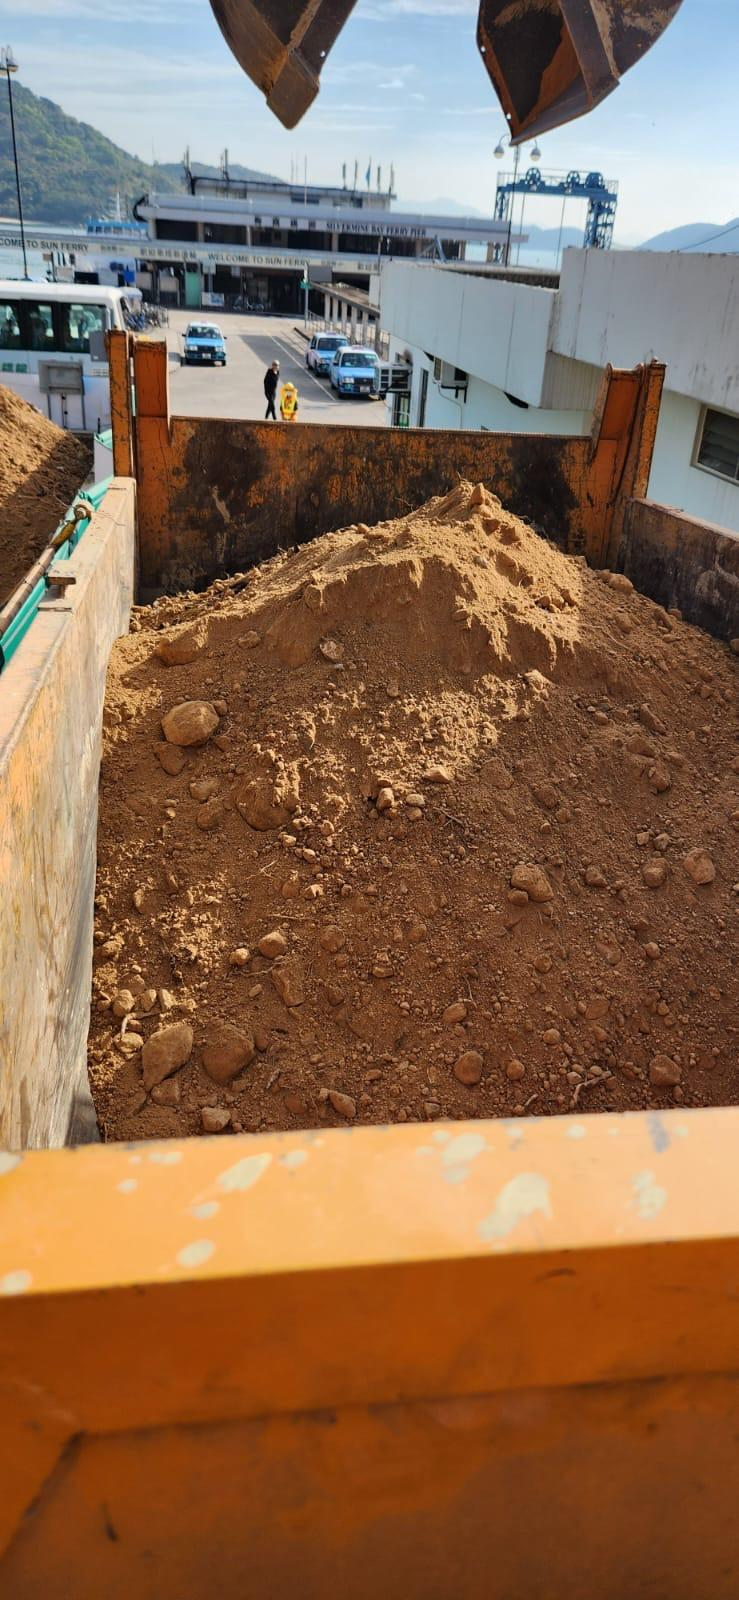dirt: (86, 476, 737, 1141)
stone: (140, 1021, 193, 1086), (201, 1023, 254, 1083), (235, 778, 292, 830), (160, 699, 219, 746), (509, 861, 553, 903), (156, 630, 204, 665), (270, 964, 305, 1006), (682, 847, 715, 884), (153, 741, 186, 775), (648, 1054, 682, 1086), (452, 1050, 482, 1084), (257, 929, 287, 957), (641, 857, 667, 888), (199, 1105, 230, 1131), (328, 1090, 356, 1117)
